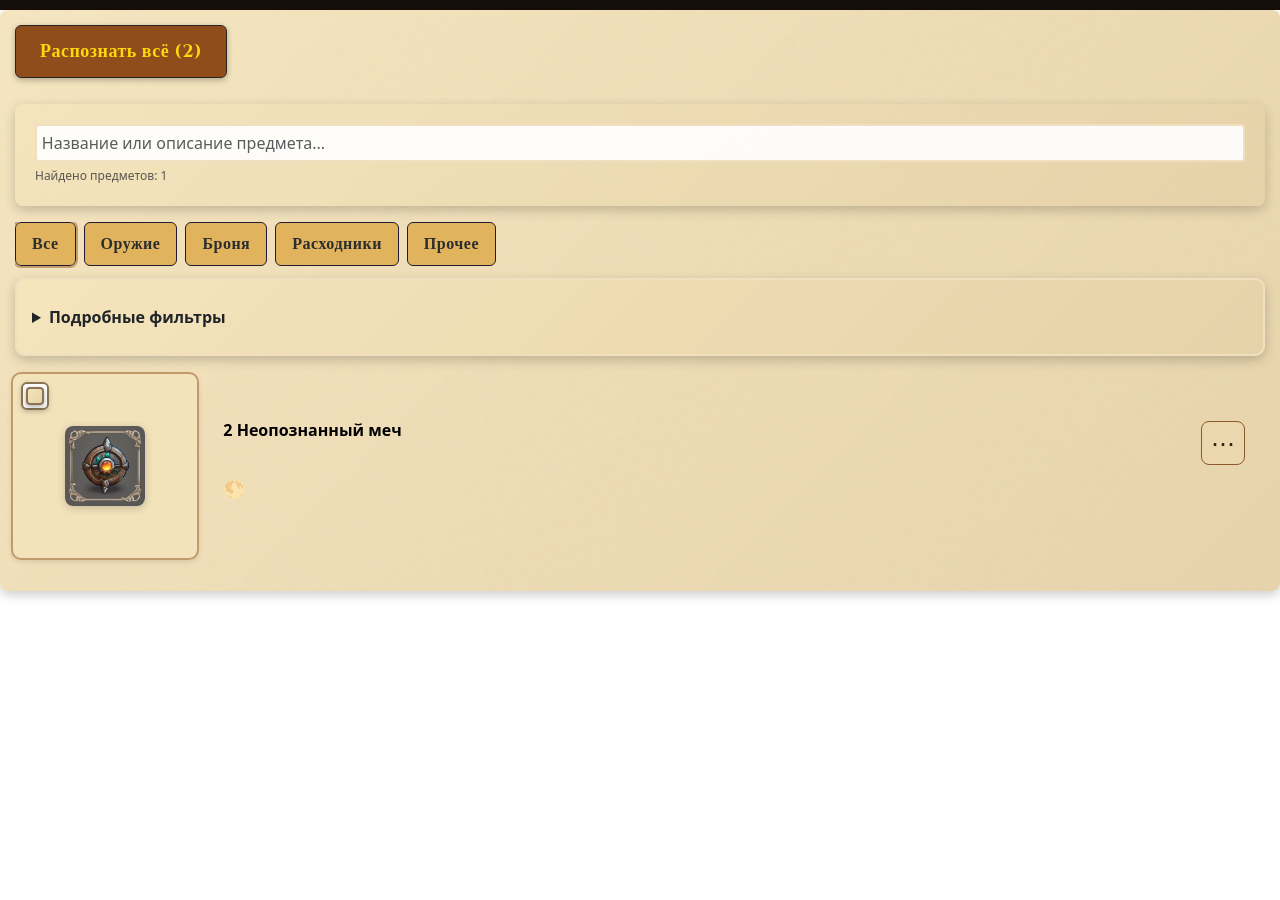
identify all handles whole inventory stacks across batches
This screenshot has width=1280, height=900.
Click the button "Распознать всё (2)". click: (121, 52)
box: [15,25,227,78]
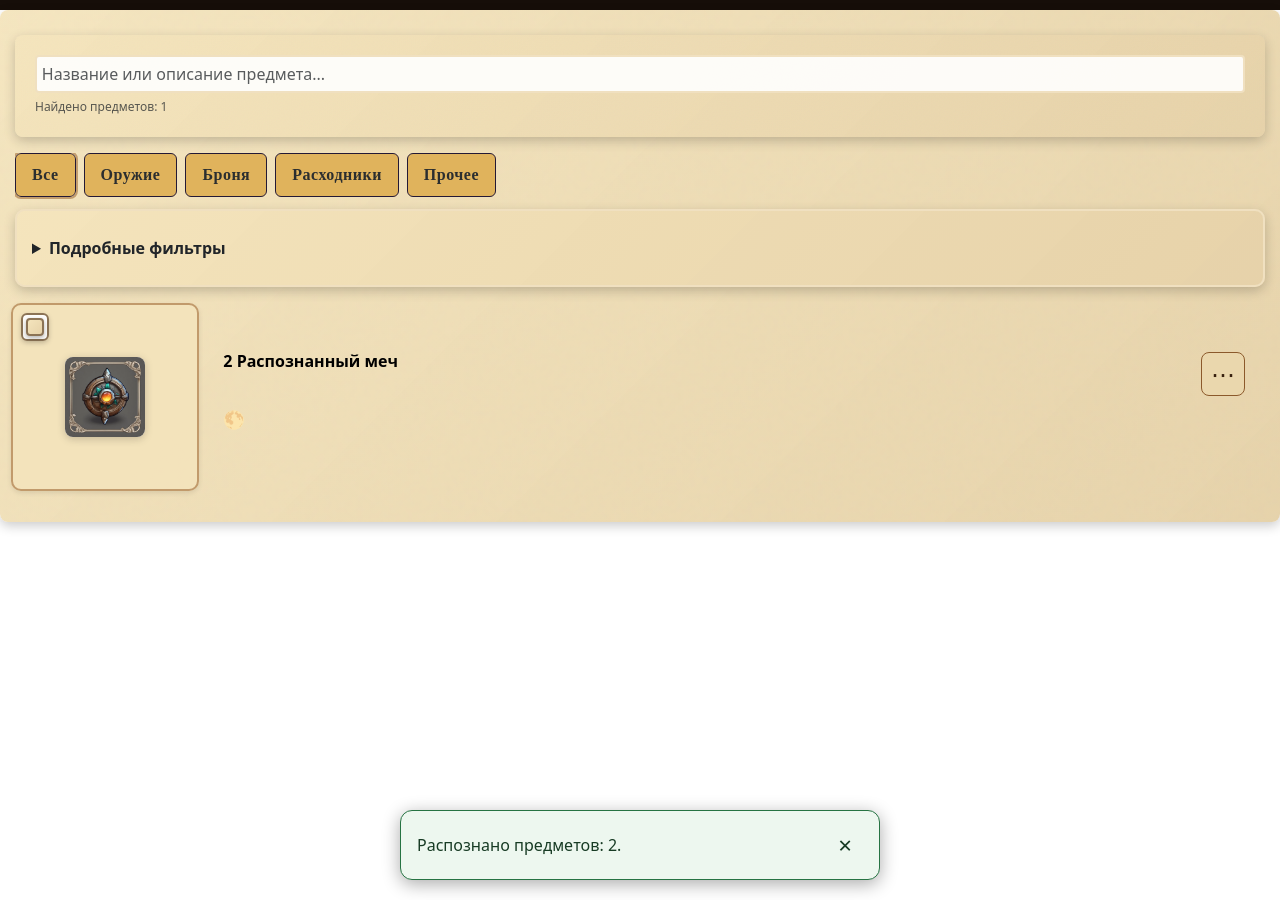
Now the text "Распознанный меч" is shown, box [223,350,398,372]
Now the text "Распознано предметов: 2." is shown, box [417,834,621,856]
